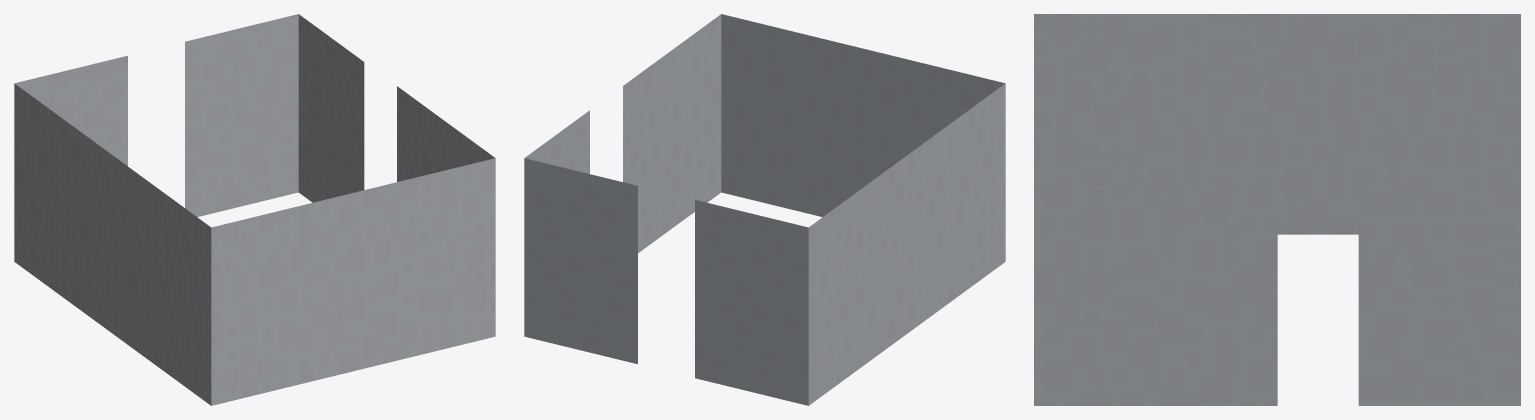
The model's file is smith_s486-511.glb.
The picture shows the model from 3 angles, left to right: view 1: azimuth 30°, elevation 25°; view 2: azimuth 150°, elevation 25°; view 3: azimuth 270°, elevation 25°; orthographic projection. The views are drawn at different scales.
Visible parts, largest first — view 1: smith_s486-511; view 2: smith_s486-511; view 3: smith_s486-511.
Part boxes in pixels (x1,y1,x2,y2): smith_s486-511: [14, 14, 495, 405]; smith_s486-511: [524, 14, 1005, 405]; smith_s486-511: [1034, 14, 1520, 405].
Size of what is drawn, in the model's own units: 5 by 3 by 6.
1 material, 1 textured.
